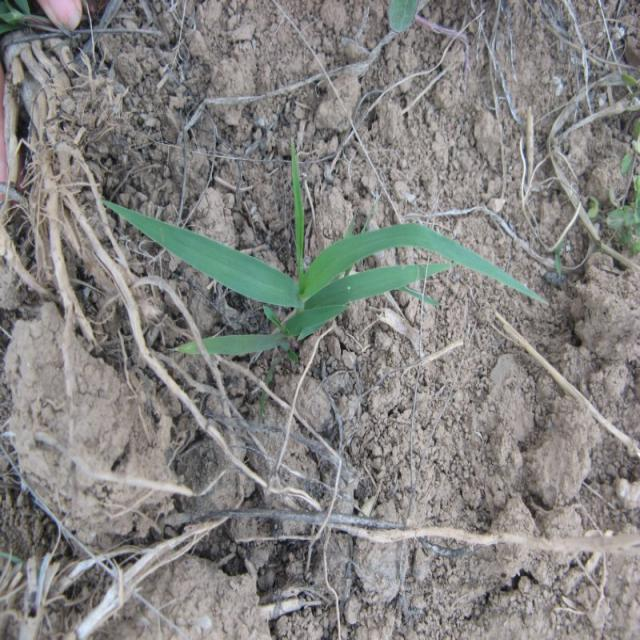bg: (101, 148, 551, 362)
